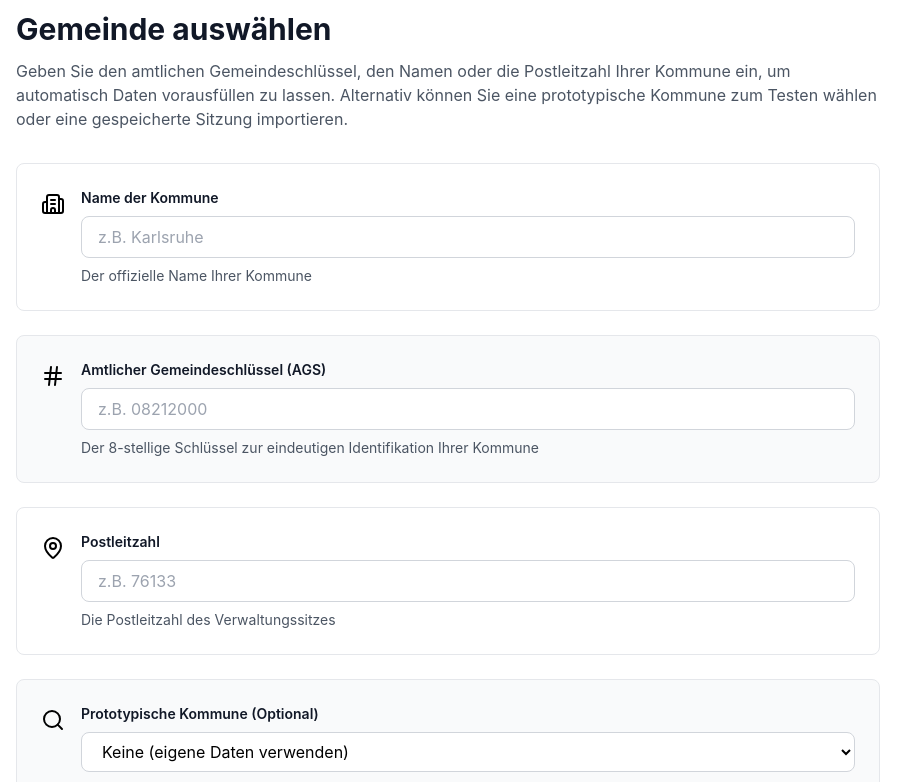
StartView › suppresses an immediate re-search after selecting a suggestion
The width and height of the screenshot is (897, 782).
Step 1. Type "Be" into the field with placeholder "z.B. Karlsruhe" → (468, 237), box x1=81 y1=216 x2=855 y2=258
Wait 300 ms
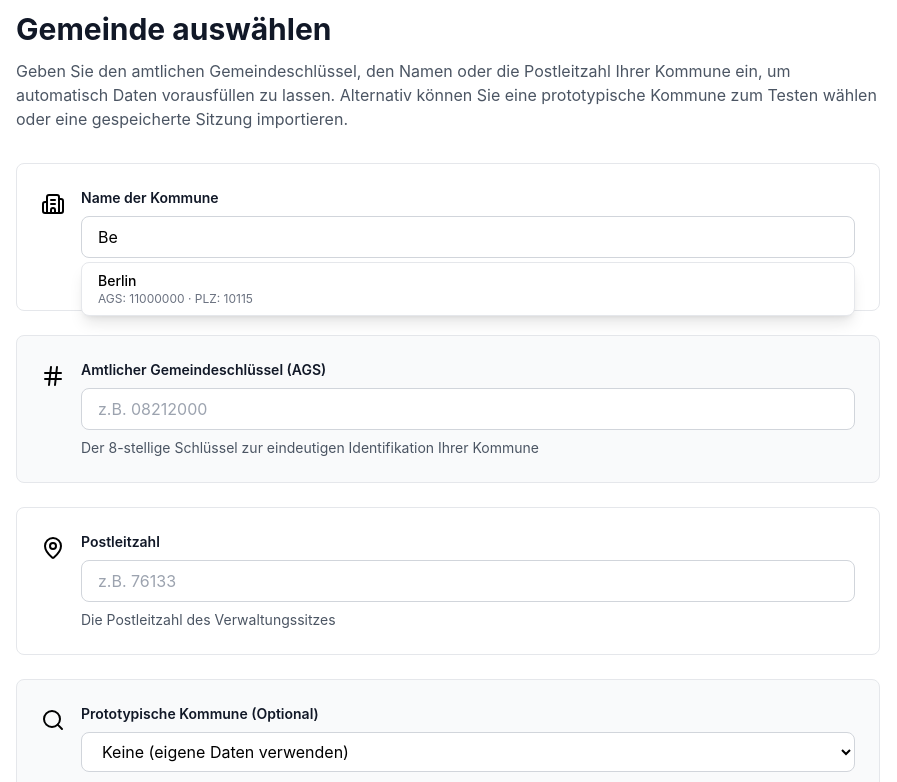
Step 2. Press the mouse on the text "Berlin" → (117, 280), box x1=98 y1=272 x2=136 y2=289
Wait 300 ms
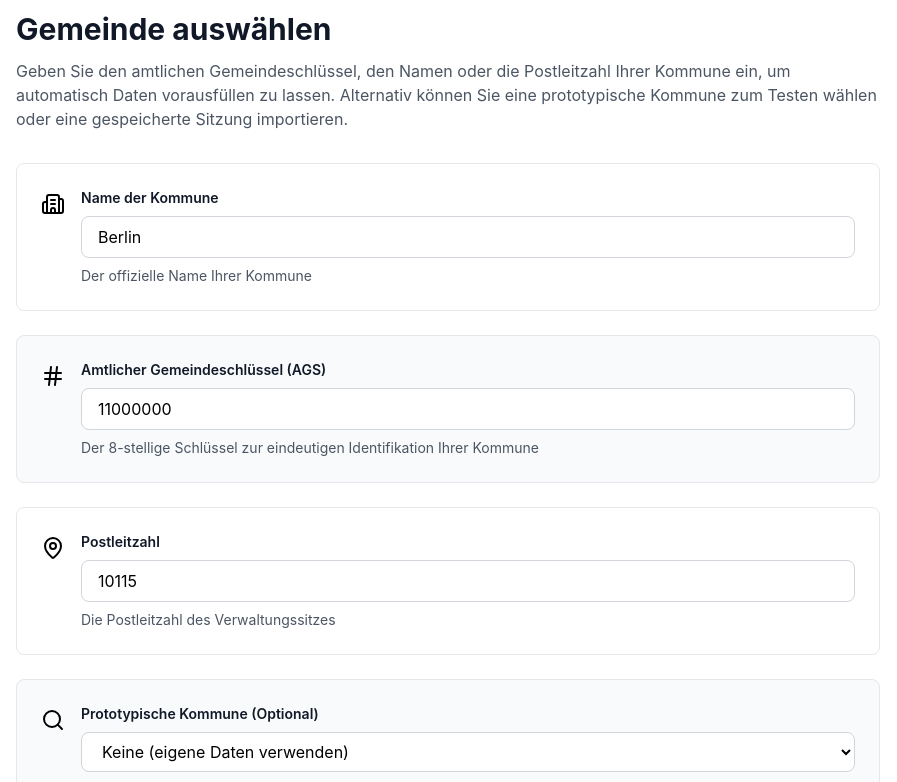
Check: the field with placeholder "z.B. Karlsruhe" below "Name der Kommune" holds "Berlin", box x1=81 y1=216 x2=855 y2=258
